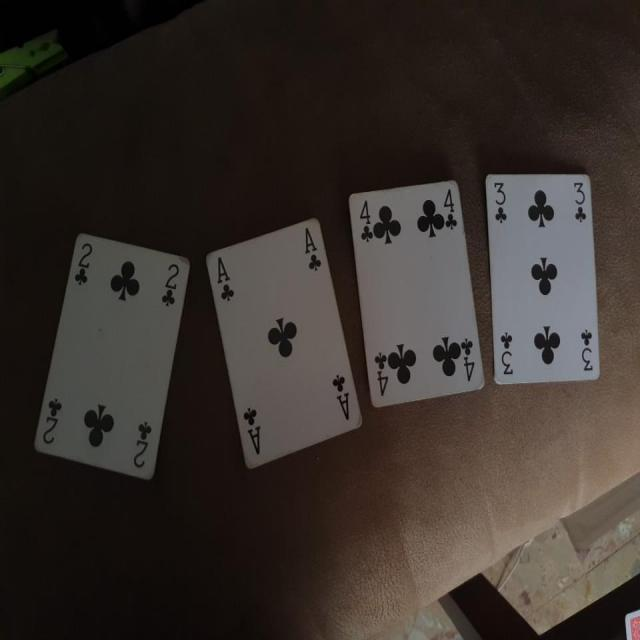2 Trefoils: (31, 234, 190, 484)
3 Trefoils: (483, 169, 602, 384)
4 Trefoils: (348, 176, 485, 409)
A Trefoils: (205, 216, 364, 471)
